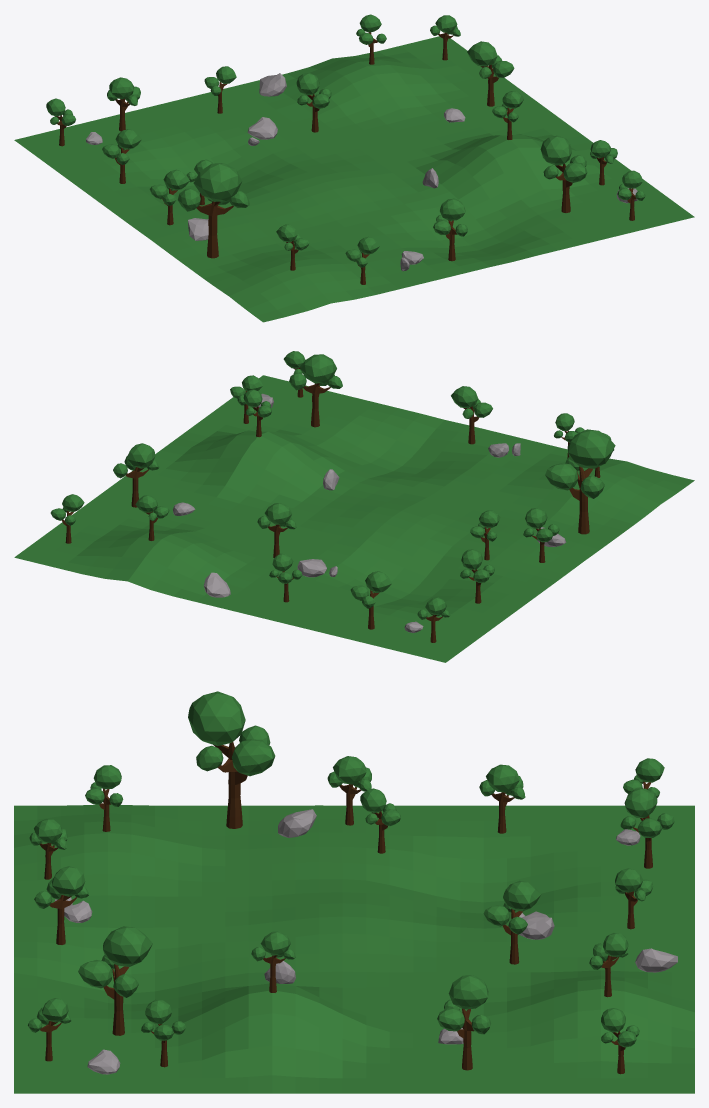
The model's file is Plain Arena.fbx.
3 views of the same model, one above another, from view 1: azimuth 30°, elevation 25°; view 2: azimuth 150°, elevation 25°; view 3: azimuth 270°, elevation 25° (orthographic). The views are drawn at different scales.
Visible parts, largest first — view 1: Plain, Tree.008, Tree.017, Tree.004, Tree.006, Tree.015, Tree.009, Tree.014, Tree.007, Tree, Tree.010, Tree.016 (+8 smaller); view 2: Plain, Tree.008, Tree.017, Tree.004, Tree.006, Tree.009, Tree.015, Tree.014, Tree.007, Tree.002, Tree.012, Tree.005 (+6 smaller); view 3: Plain, Tree.008, Tree.017, Tree.004, Tree.015, Tree.009, Tree.006, Tree.014, Tree.007, Tree.001, Tree.011, Tree.002 (+10 smaller).
Boxes of the visible parts, x1,y1,x2,y2 form: Plain: (14,36,694,322); Tree.008: (178,163,249,258); Tree.017: (540,135,587,212); Tree.004: (467,41,514,106); Tree.006: (433,198,467,261); Tree.015: (296,73,331,132); Tree.009: (107,77,140,131); Tree.014: (149,169,189,225); Tree.007: (102,129,141,183); Tree: (617,170,645,220); Tree.010: (356,14,386,64); Tree.016: (492,91,524,139); Plain: (14,375,694,662); Tree.008: (545,429,615,534); Tree.017: (289,354,342,427); Tree.004: (113,443,159,507); Tree.006: (451,386,492,444); Tree.009: (350,571,391,629); Tree.015: (257,503,296,557); Tree.014: (523,508,559,562); Tree.007: (460,549,494,603); Tree.002: (470,510,500,560); Tree.012: (50,494,84,543); Tree.005: (269,553,302,602); Plain: (14,804,694,1093); Tree.008: (188,691,275,828); Tree.017: (78,926,152,1035); Tree.004: (437,975,490,1070); Tree.015: (483,880,540,964); Tree.009: (620,788,674,868); Tree.006: (34,866,88,944); Tree.014: (327,756,371,825); Tree.007: (479,764,525,833); Tree.001: (85,765,123,831); Tree.011: (141,999,185,1067); Tree.002: (360,788,400,853).
Size of the model in its own units: 20057 by 4968 by 20057.
